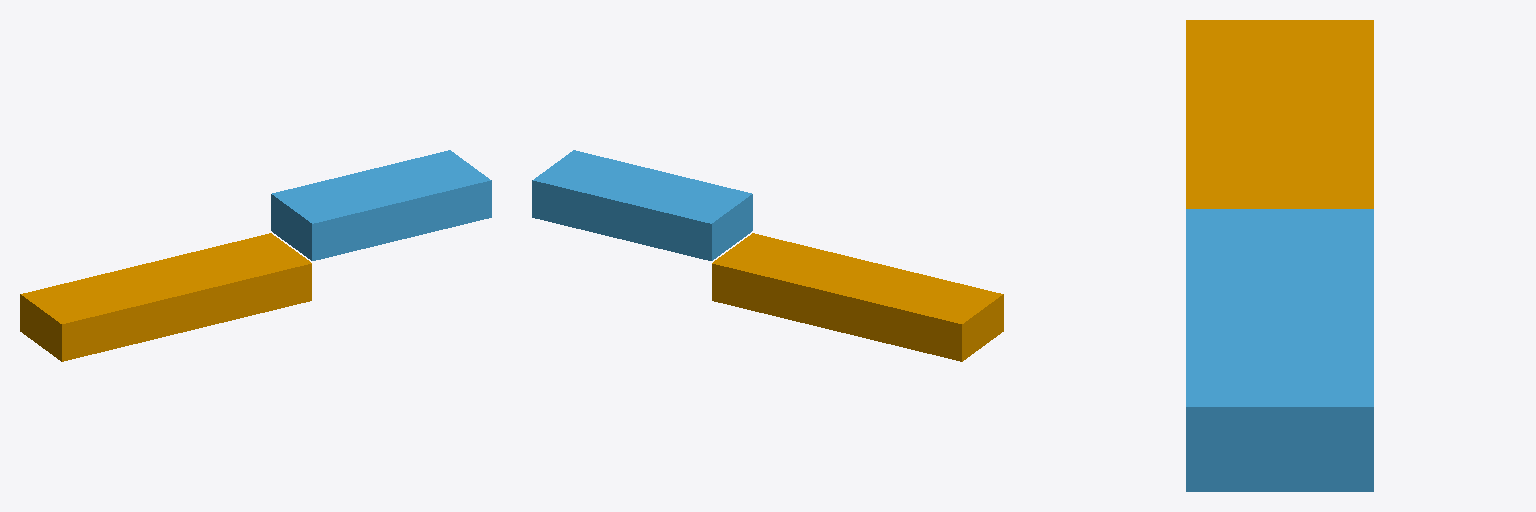
robot.urdf — test_data_v5:
<?xml version="1.0" encoding="utf-8"?>
<robot name="test_data_v5">
	<link name="link0:1">
		<inertial>
			<mass value="0.1099"/>
			<origin rpy="-0.0 -0.0 -0.0" xyz="0.035 0.01 0.005"/>
			<inertia ixx="4.579166666666662e-06" ixy="0.0" ixz="0.0" iyy="4.579166666666663e-05" iyz="0.0" izz="4.8539166666666644e-05"/>
		</inertial>
		<collision name="link0:1_collision">
			<origin rpy="0.0 -0.0 0.0" xyz="0.0 0.0 0.0"/>
			<geometry>
				<mesh filename="./meshes/link0.stl" scale="1.0 1.0 1.0"/>
			</geometry>
		</collision>
		<visual name="link0:1_visual">
			<origin rpy="0.0 -0.0 0.0" xyz="0.0 0.0 0.0"/>
			<geometry>
				<mesh filename="./meshes/link0.stl" scale="1.0 1.0 1.0"/>
			</geometry>
		</visual>
	</link>
	<link name="link1:1">
		<inertial>
			<mass value="0.07849999999999999"/>
			<origin rpy="-0.0 0.0 1.6653345369377506e-16" xyz="0.10500000000000001 0.01 0.004999999999999999"/>
			<inertia ixx="3.2708333333332285e-06" ixy="0.0" ixz="0.0" iyy="1.7008333333332626e-05" iyz="0.0" izz="1.8970833333349903e-05"/>
		</inertial>
		<collision name="link1:1_collision">
			<origin rpy="0.0 -0.0 -1.6653345369377508e-16" xyz="-0.07999999999999924 -0.009999999999999891 -0.009999999999999997"/>
			<geometry>
				<mesh filename="./meshes/link1.stl" scale="1.0 1.0 1.0"/>
			</geometry>
		</collision>
		<visual name="link1:1_visual">
			<origin rpy="0.0 -0.0 -1.6653345369377508e-16" xyz="-0.07999999999999924 -0.009999999999999891 -0.009999999999999997"/>
			<geometry>
				<mesh filename="./meshes/link1.stl" scale="1.0 1.0 1.0"/>
			</geometry>
		</visual>
	</link>
	<joint name="rev0" type="continuous">
		<parent link="link0:1"/>
		<child link="link1:1"/>
		<origin rpy="0 0 0" xyz="0.06999999999999999 0.009999999999999988 0.020499999999999997"/>
		<axis xyz="0.0 0.0 1.0"/>
	</joint>
</robot>

--- Facts derived from the render (not from the file) ---
The picture shows the robot from 3 angles, left to right: view 1: azimuth 30°, elevation 25°; view 2: azimuth 150°, elevation 25°; view 3: azimuth 270°, elevation 25°; orthographic projection.
Model test_data_v5 with 2 links and 1 joints (1 continuous), rooted at link0:1, posed every joint at zero.
Links seen in each view (by area): view 1: link0:1, link1:1; view 2: link0:1, link1:1; view 3: link1:1, link0:1.
Boxes of the visible links, x1,y1,x2,y2 form: link0:1: (20, 233, 311, 361); link1:1: (271, 150, 491, 260); link0:1: (712, 233, 1003, 361); link1:1: (532, 150, 752, 260); link1:1: (1186, 209, 1373, 491); link0:1: (1186, 20, 1373, 208).
Bounding box of the posed robot: 0.12 × 0.02 × 0.0205 m (x, y, z).
2 mesh visuals loaded from 2 distinct referenced files (2 binary STL).